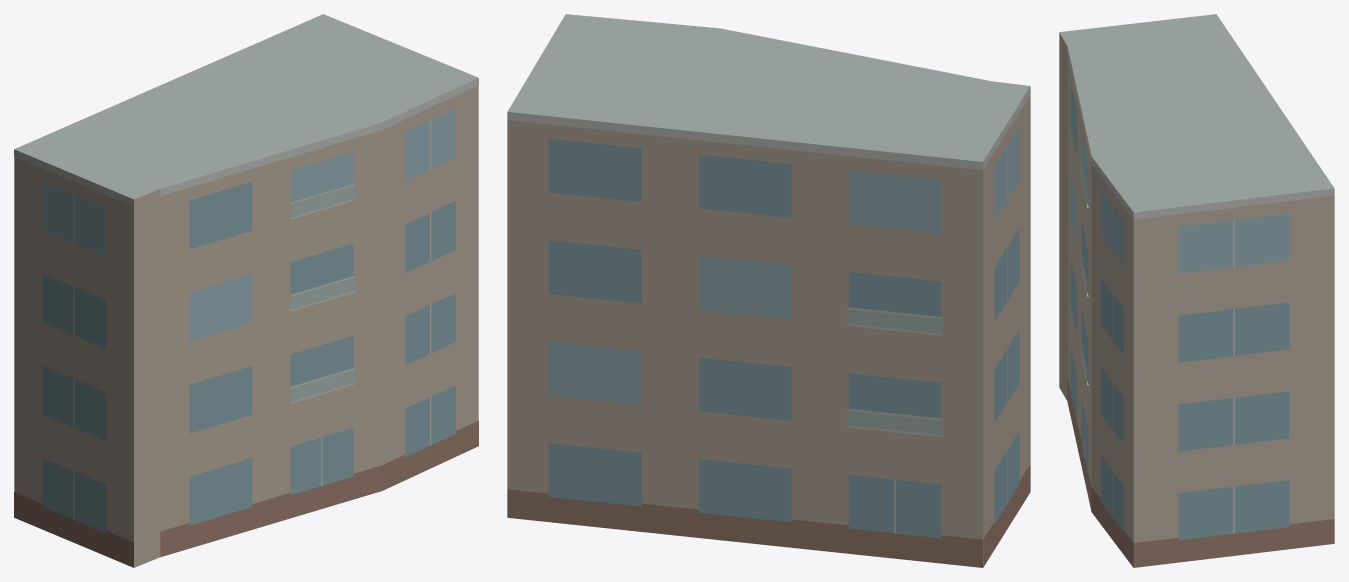
File: survey-upis-32557643.glb
3 renders of one model, left to right at view 1: azimuth 30°, elevation 25°; view 2: azimuth 150°, elevation 25°; view 3: azimuth 270°, elevation 25°, orthographic. The views are drawn at different scales.
Visible parts, largest first — view 1: survey-upis-32557643.tmp; view 2: survey-upis-32557643.tmp; view 3: survey-upis-32557643.tmp.
Part boxes in pixels (x1,y1,x2,y2): survey-upis-32557643.tmp: (14, 14, 478, 567); survey-upis-32557643.tmp: (507, 14, 1030, 567); survey-upis-32557643.tmp: (1059, 14, 1334, 567).
Bounding box in the file's own units: 14.39 × 12 × 8.44.
